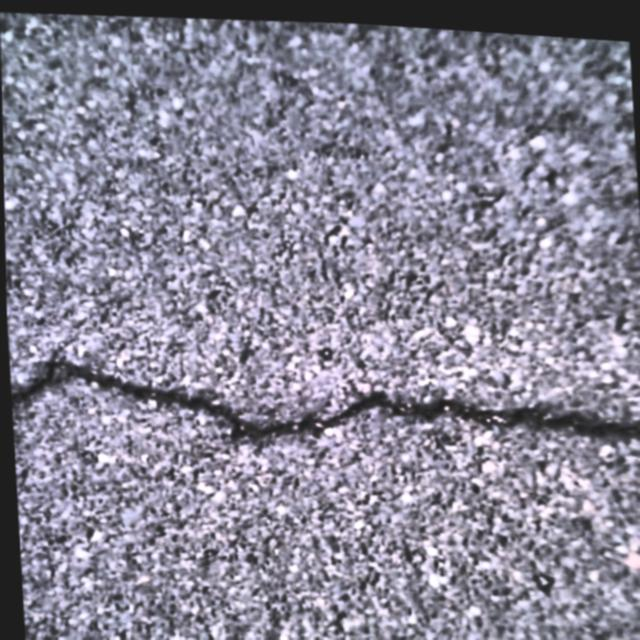cracks: (6, 335, 640, 446)
